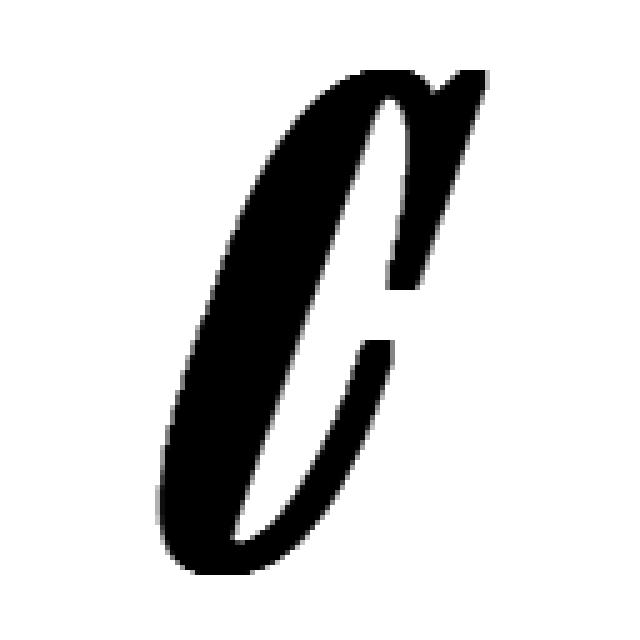C: (160, 70, 490, 580)
